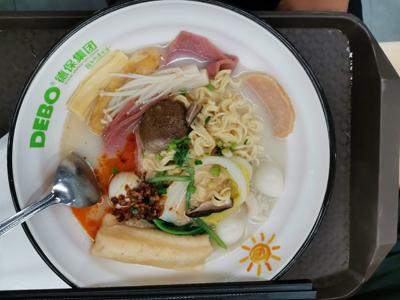mlt: (59, 55, 281, 255)
